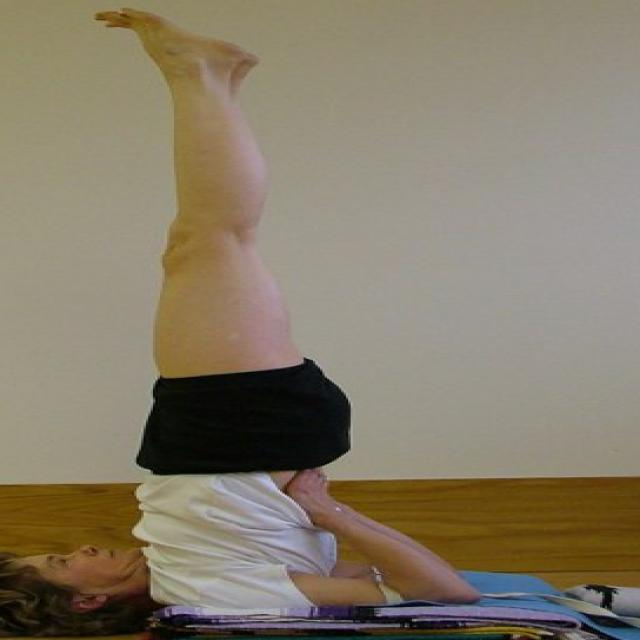yoga-pose shoulderstand: (0, 1, 485, 622)
